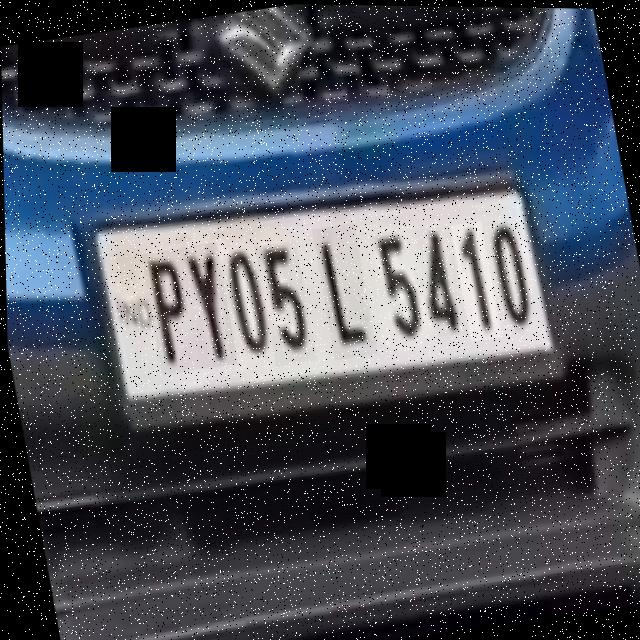0: (482, 210, 538, 333), (219, 243, 273, 364)
1: (449, 219, 500, 341)
4: (411, 224, 467, 337)
5: (364, 219, 434, 352), (253, 239, 316, 366)
L: (311, 222, 376, 360)
P: (140, 248, 199, 376)
Y: (178, 241, 237, 370)
